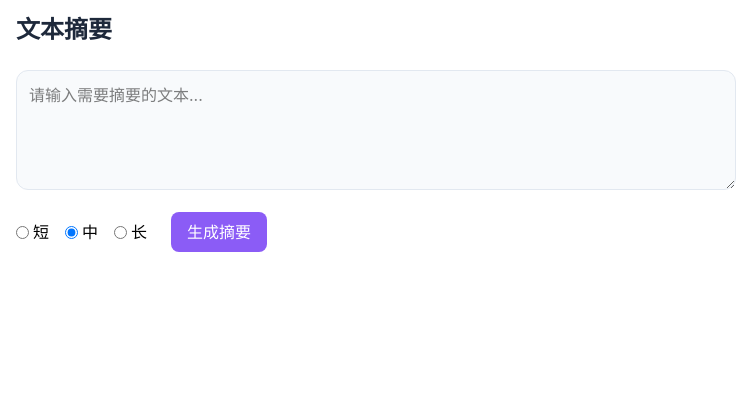
it: TextSummaryPage › 空输入时显示提示
This screenshot has width=753, height=413.
Click the button "生成摘要" at {"x": 219, "y": 232}, box top-left (171, 212), bottom-right (267, 252)
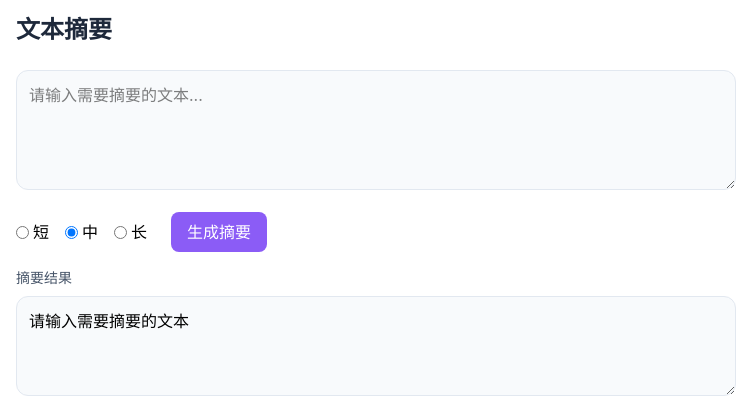
Result: the text box "请输入需要摘要的文本" is shown at top-left (16, 296), bottom-right (736, 396)
